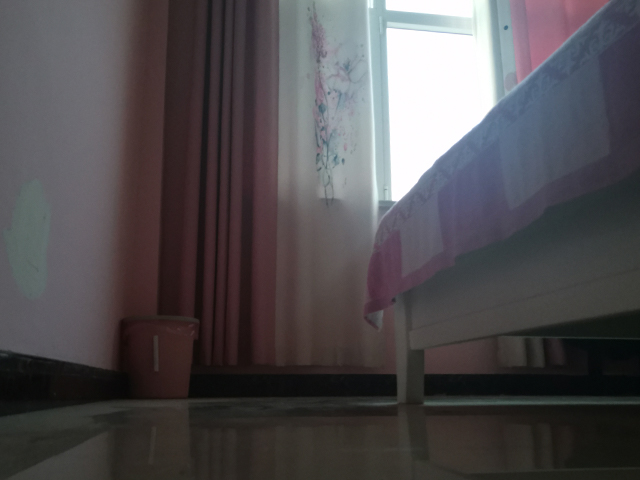bed: (361, 1, 640, 405)
curtain: (157, 1, 381, 372)
trashcan: (116, 313, 201, 400)
